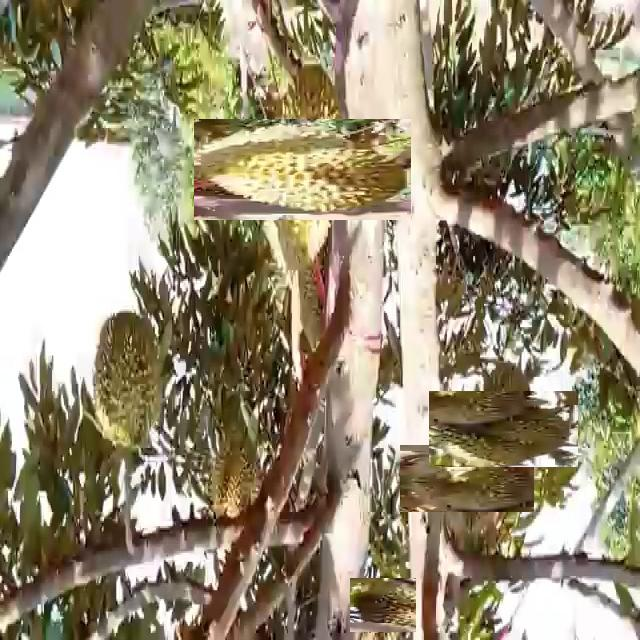durian: (223, 89, 382, 249), (448, 372, 560, 486), (85, 308, 166, 457), (417, 428, 518, 529), (206, 432, 266, 534), (352, 575, 413, 635)
